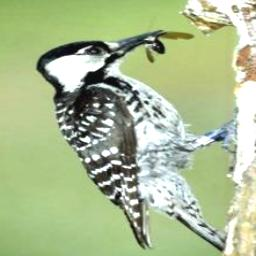Woodpecker: (34, 29, 226, 255)
